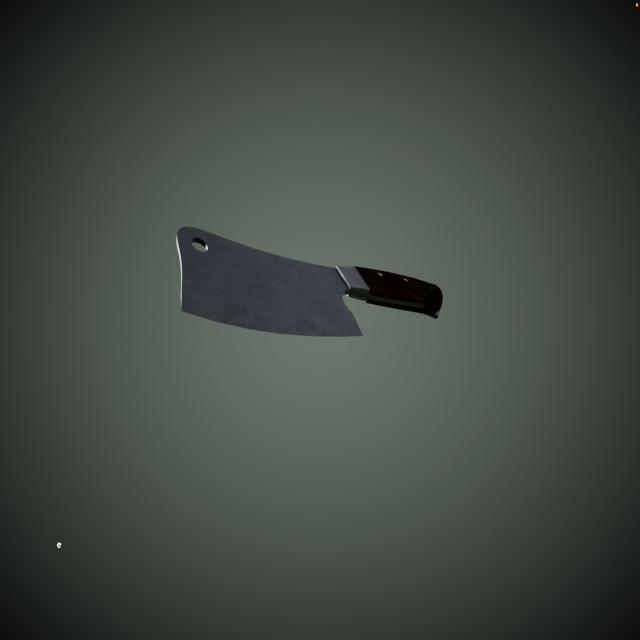cleaver: (178, 222, 446, 334)
